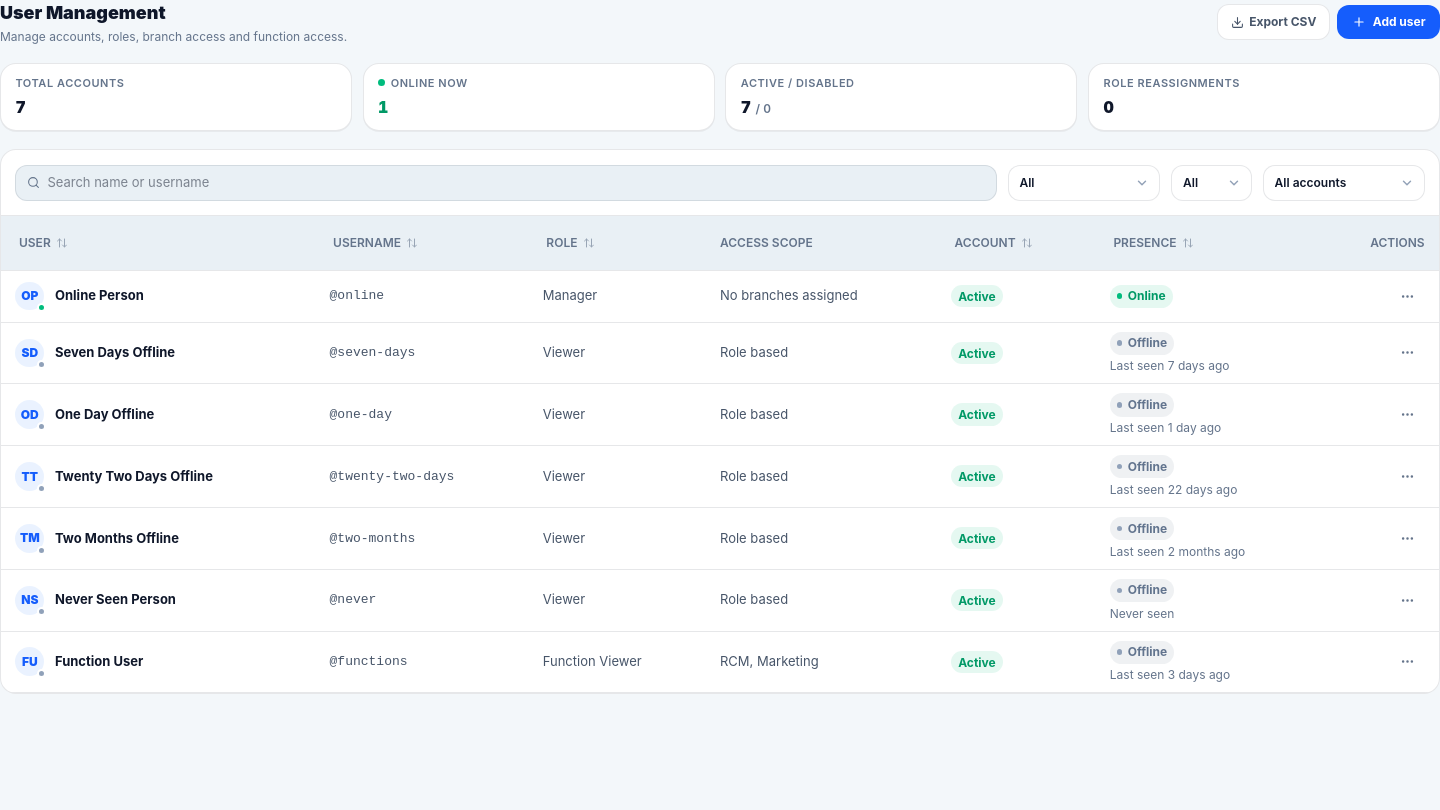
Test: saves edited function grants through the admin panel
The width and height of the screenshot is (1440, 810).
Click the button named "Actions for Function User": [1409, 662] box [1393, 646, 1425, 678]
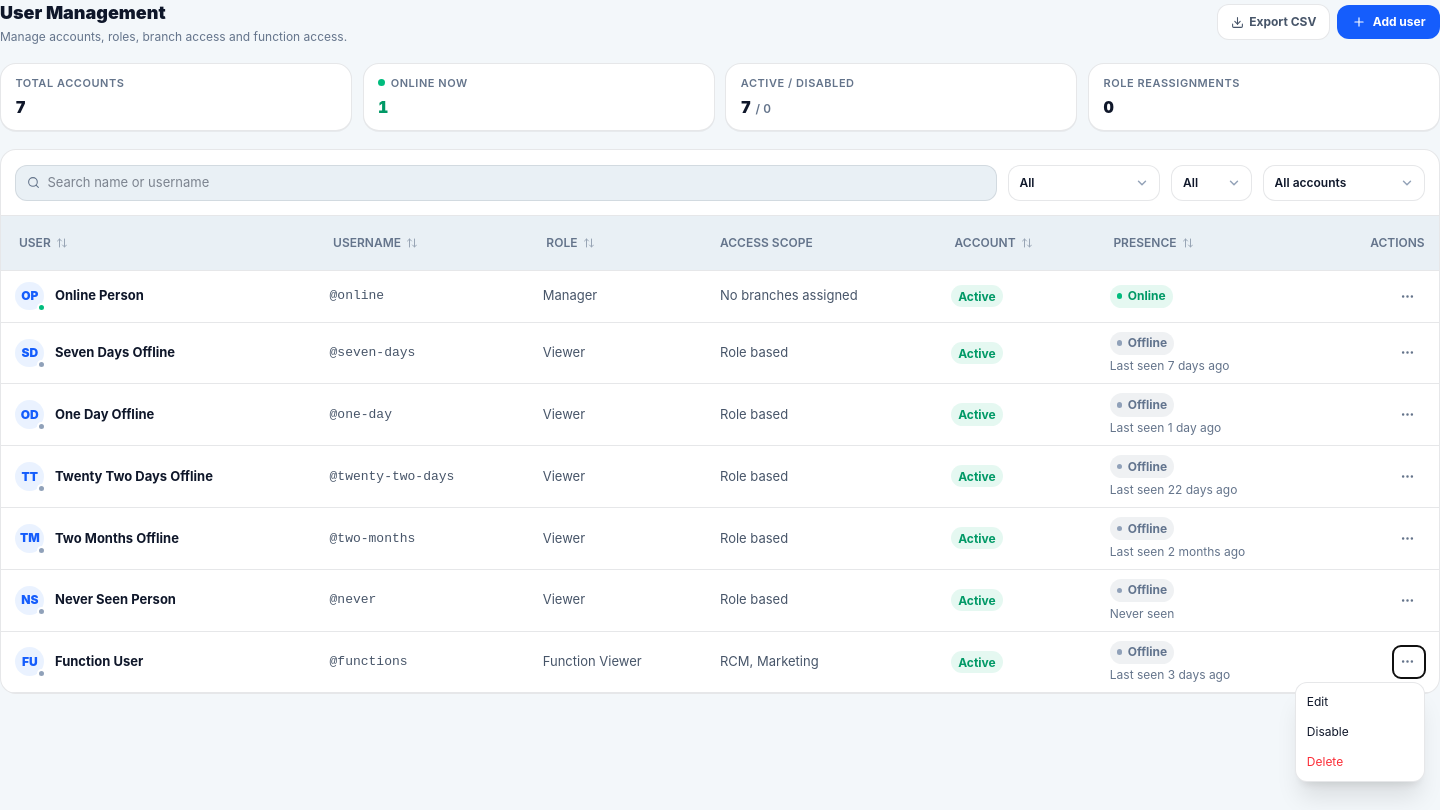
Click the button "Edit": [1360, 702] box [1296, 686, 1424, 717]
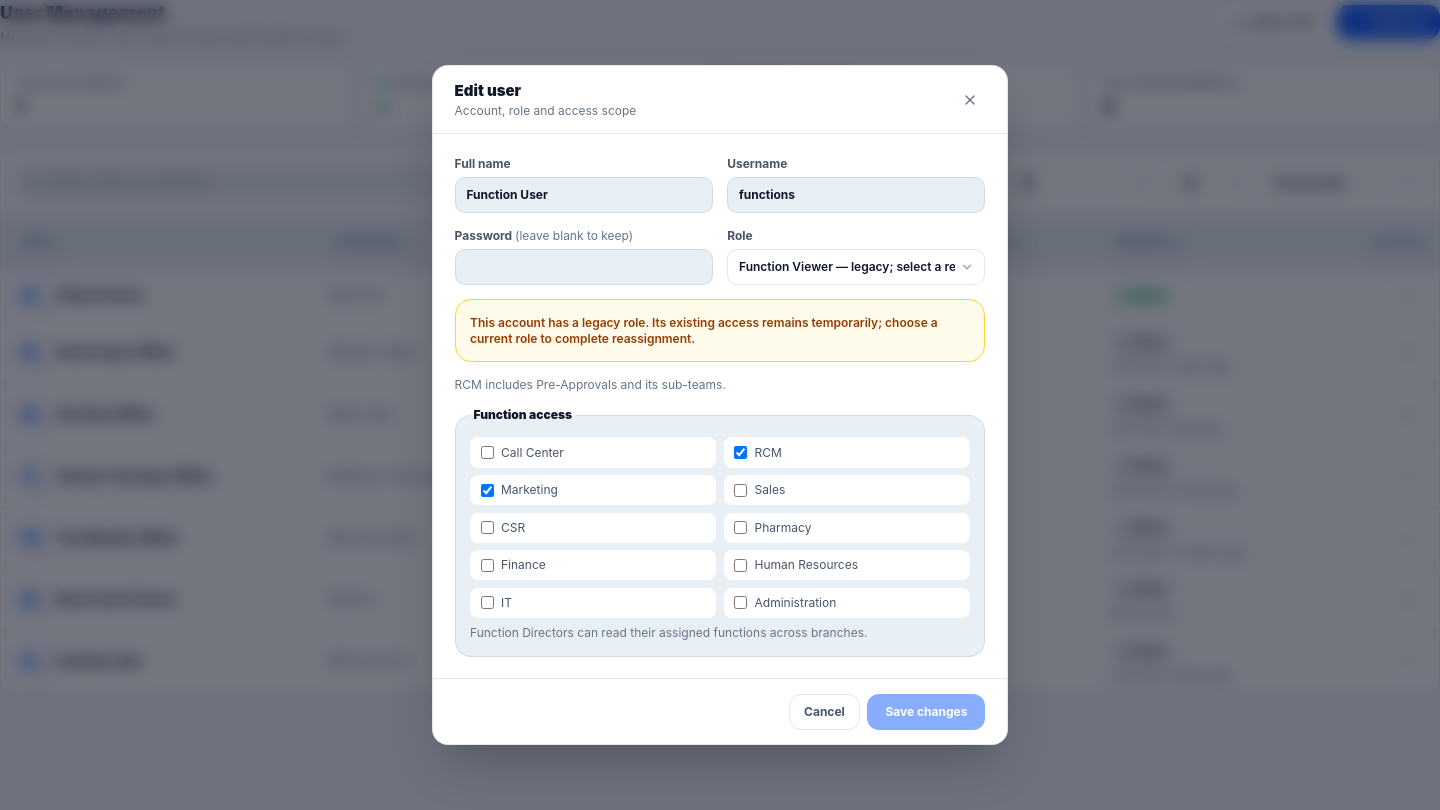
Result: the checkbox labelled "RCM" is checked at [734, 446, 747, 459]
Result: the checkbox labelled "Marketing" is checked
Click the checkbox labelled "Marketing": [487, 490] box [481, 484, 494, 497]
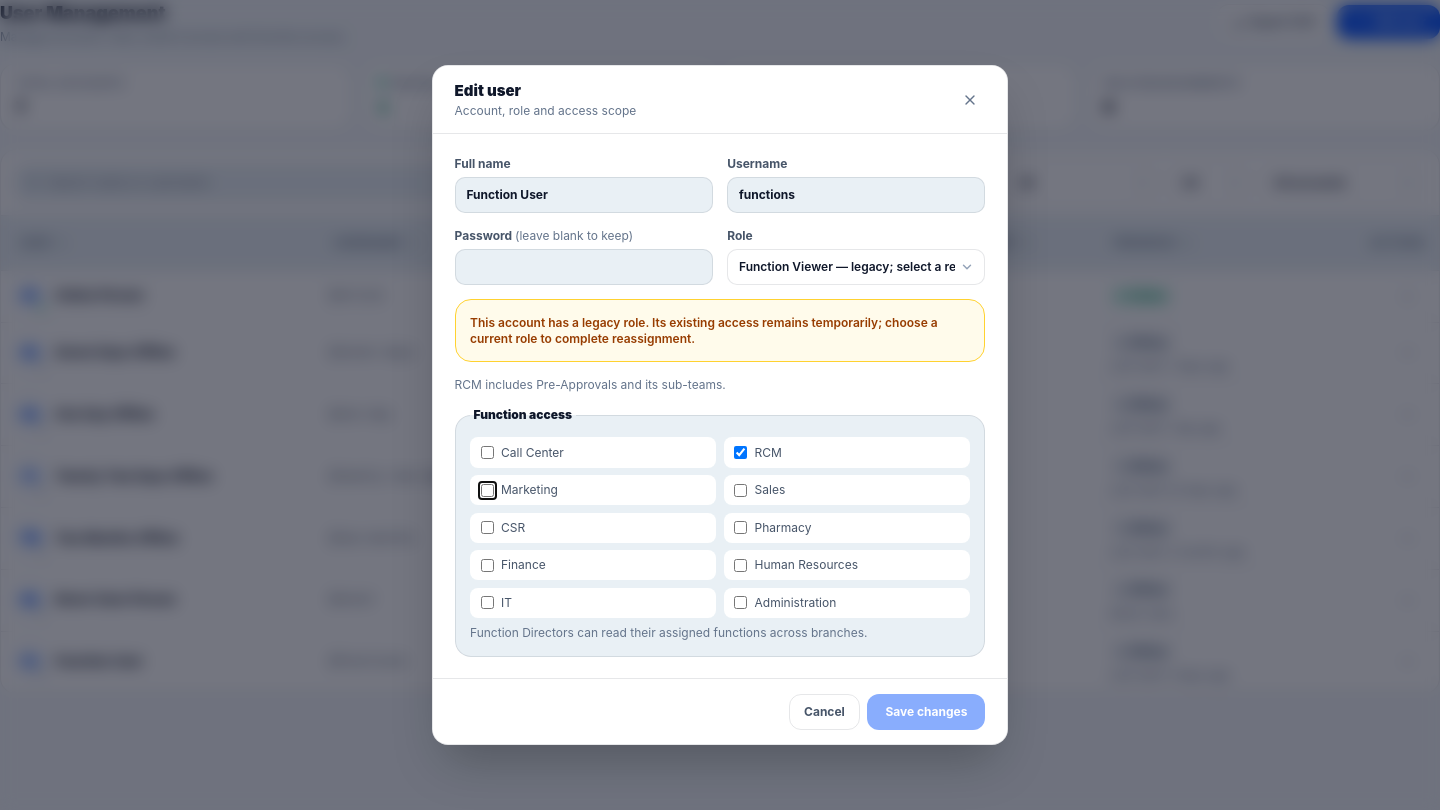
Click the checkbox labelled "Call Center": [487, 453] box [481, 446, 494, 459]
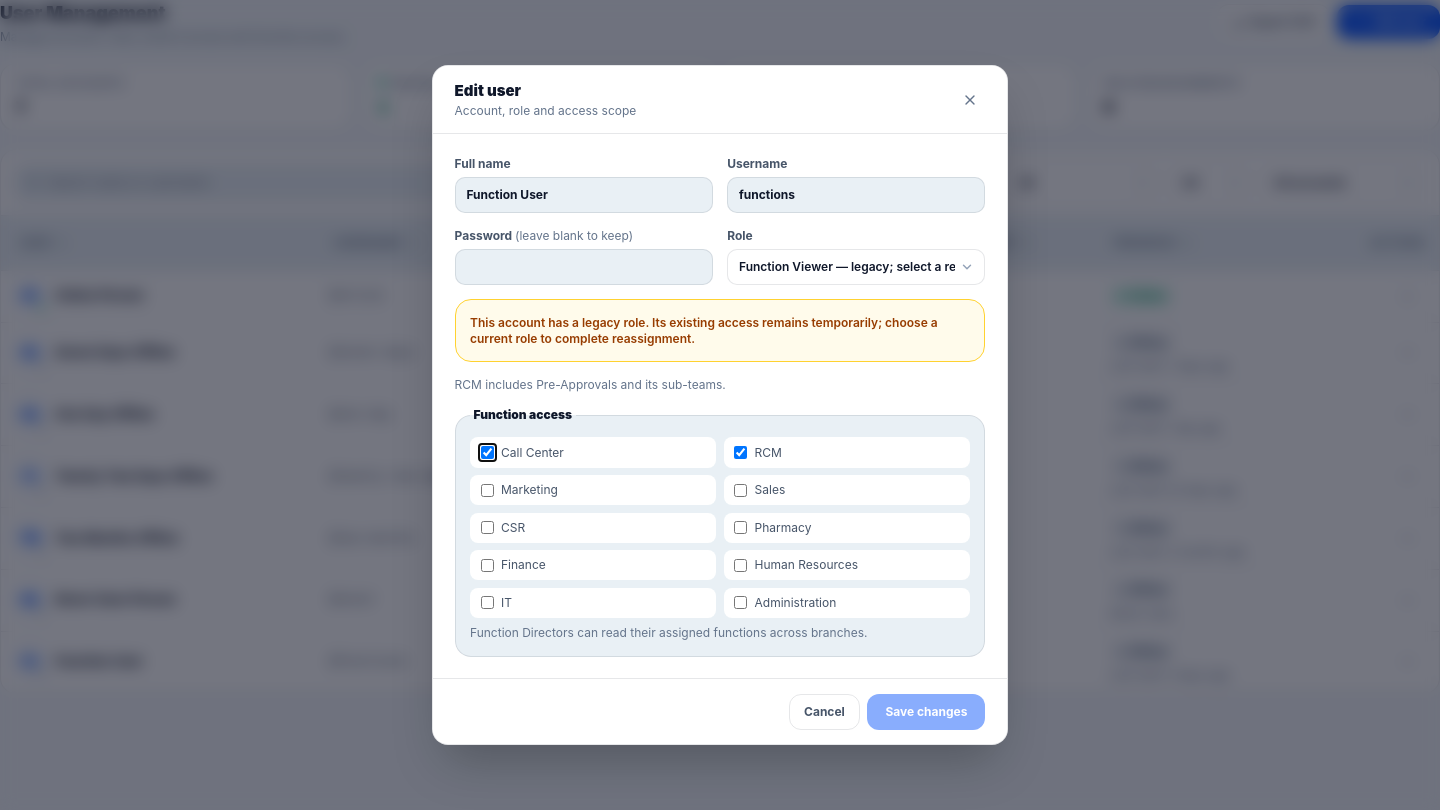
Select "Function Director" in the dropdown labelled "Role": [856, 267] box [727, 249, 985, 285]
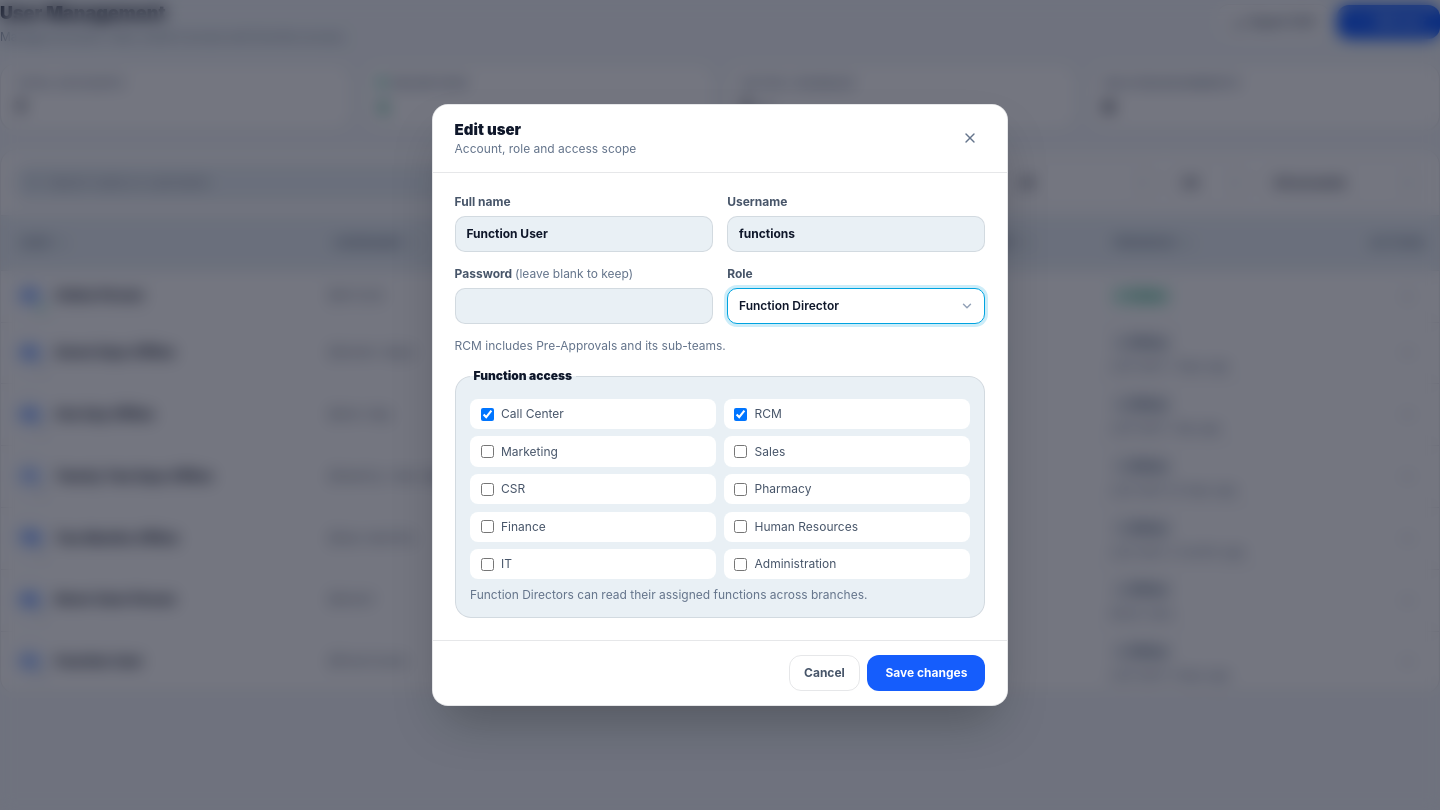
Click the button "Save changes": [926, 673] box [867, 655, 985, 691]
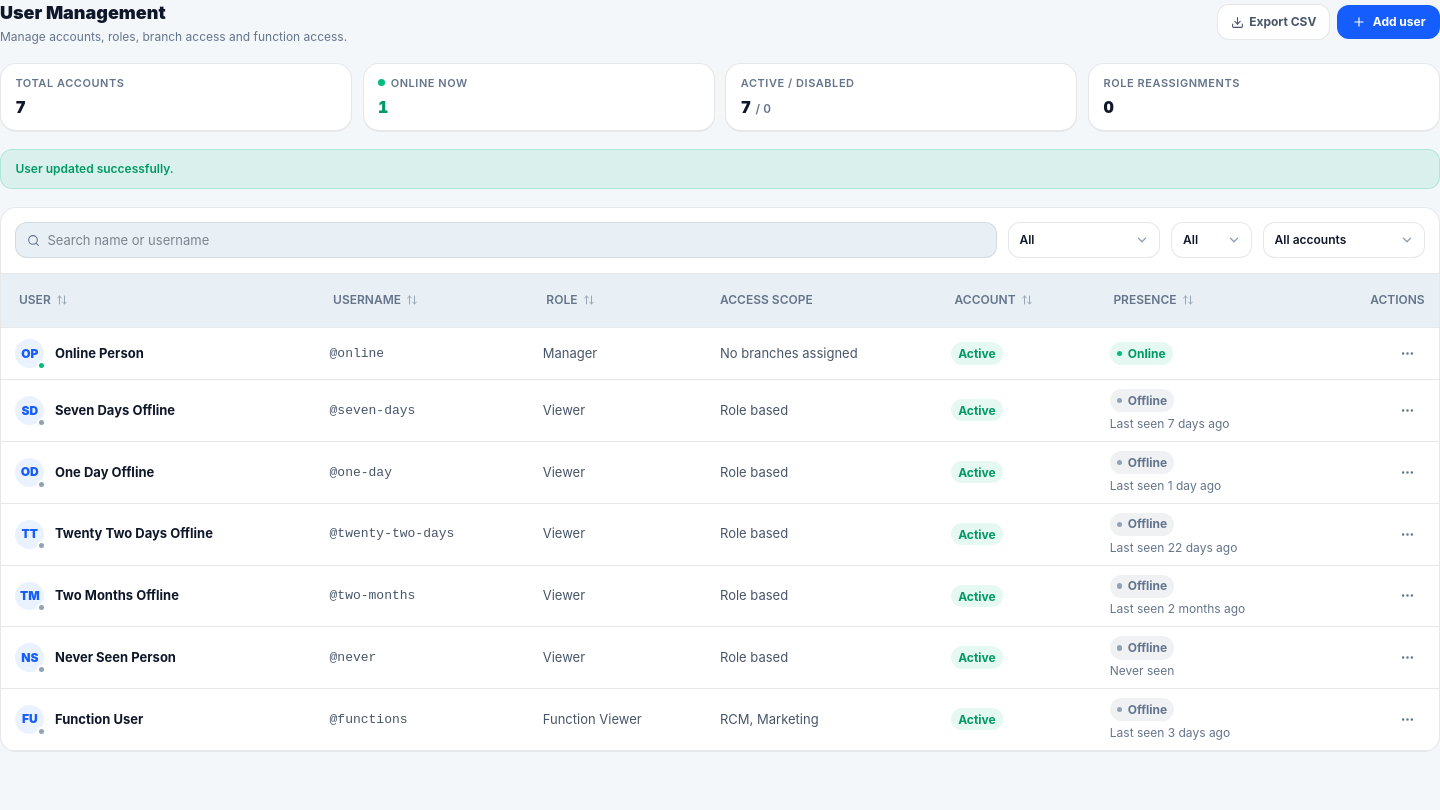
Result: the message reads "User updated successfully." at [15, 161, 174, 176]
